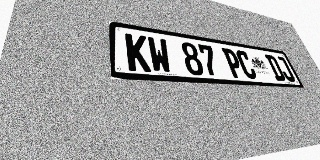7: (196, 44, 221, 77)
8: (180, 41, 205, 76)
C: (235, 50, 258, 79)
D: (264, 54, 287, 81)
J: (274, 56, 296, 82)
K: (125, 33, 151, 72)
P: (221, 48, 245, 78)
W: (147, 36, 173, 74)
